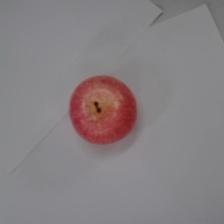red: (68, 73, 139, 146)
